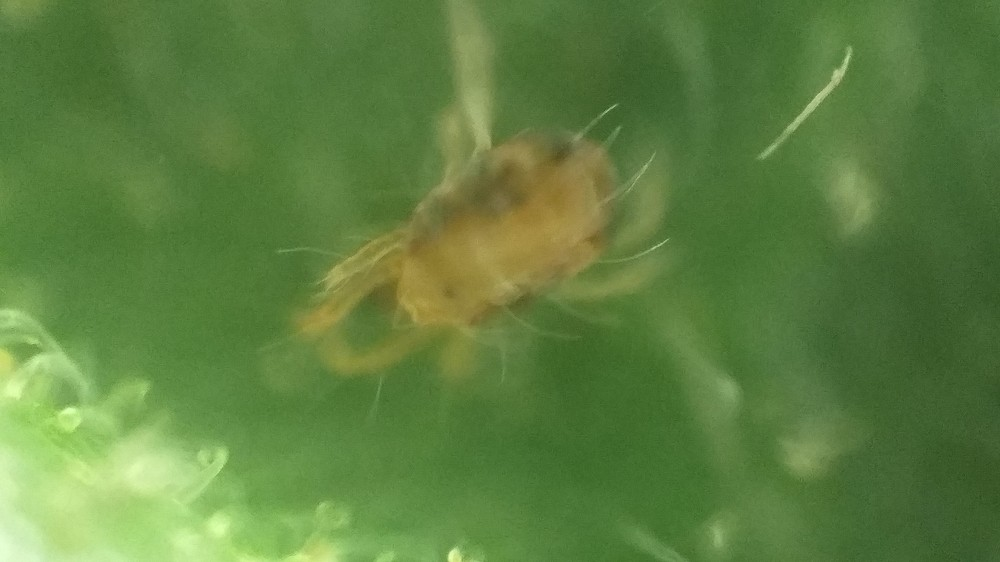Aracnido Rojo: (276, 104, 673, 380)
